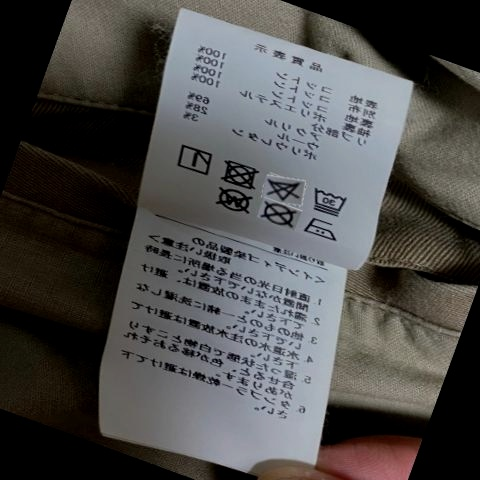30C: (310, 182, 345, 219)
DN_bleach: (263, 170, 299, 203)
DN_dry_clean: (259, 202, 296, 231)
DN_tumble_dry: (217, 155, 259, 189)
DN_wet_clean: (213, 185, 253, 220)
iron_medium: (304, 216, 339, 246)
